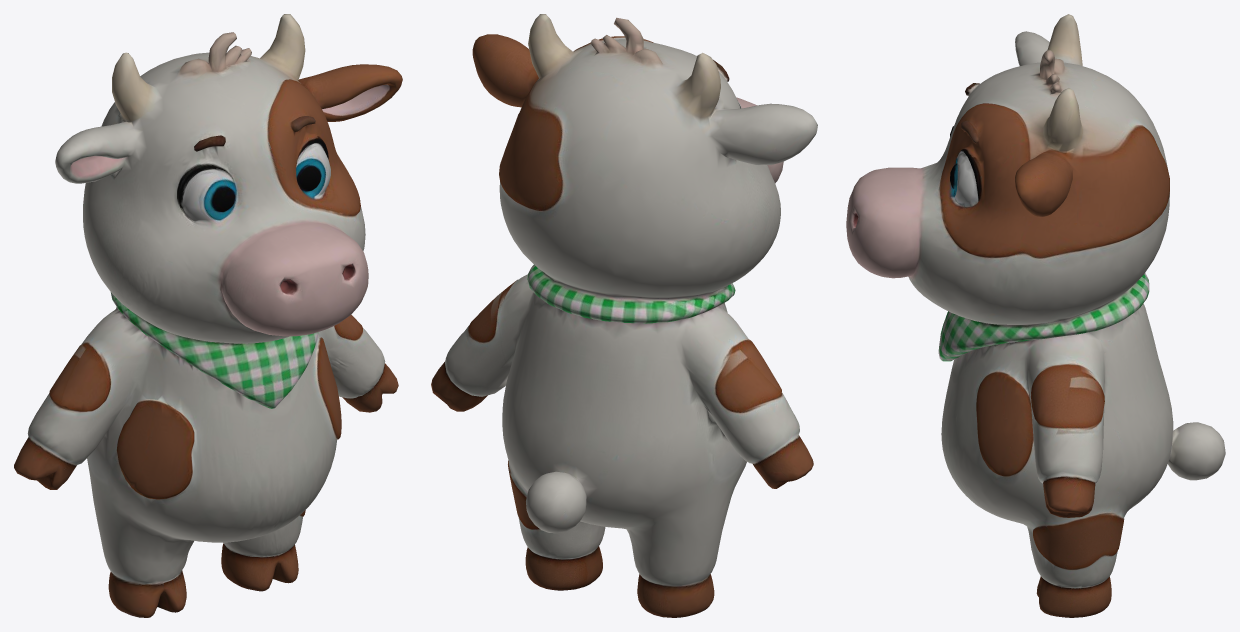
The model's file is cow.glb.
3 renders of one model, left to right at view 1: azimuth 30°, elevation 25°; view 2: azimuth 150°, elevation 25°; view 3: azimuth 270°, elevation 25°, orthographic. The views are drawn at different scales.
Visible parts, largest first — view 1: tripo_node_1c8191cd-3dd3-44a8-9183-b79ee6f8cba2; view 2: tripo_node_1c8191cd-3dd3-44a8-9183-b79ee6f8cba2; view 3: tripo_node_1c8191cd-3dd3-44a8-9183-b79ee6f8cba2.
Boxes of the visible parts, x1=… form: tripo_node_1c8191cd-3dd3-44a8-9183-b79ee6f8cba2: x1=14, y1=14, x2=402, y2=617; tripo_node_1c8191cd-3dd3-44a8-9183-b79ee6f8cba2: x1=431, y1=14, x2=817, y2=617; tripo_node_1c8191cd-3dd3-44a8-9183-b79ee6f8cba2: x1=846, y1=14, x2=1225, y2=617.
Size of the model in its own units: 0.6872 by 0.9796 by 0.6326.
Materials: 1 (1 with a texture image).
